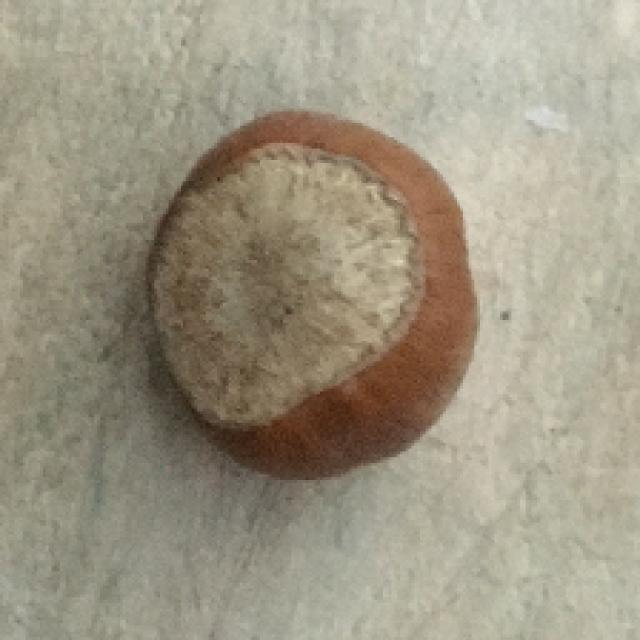qualityHazelnut: (134, 106, 481, 480)
